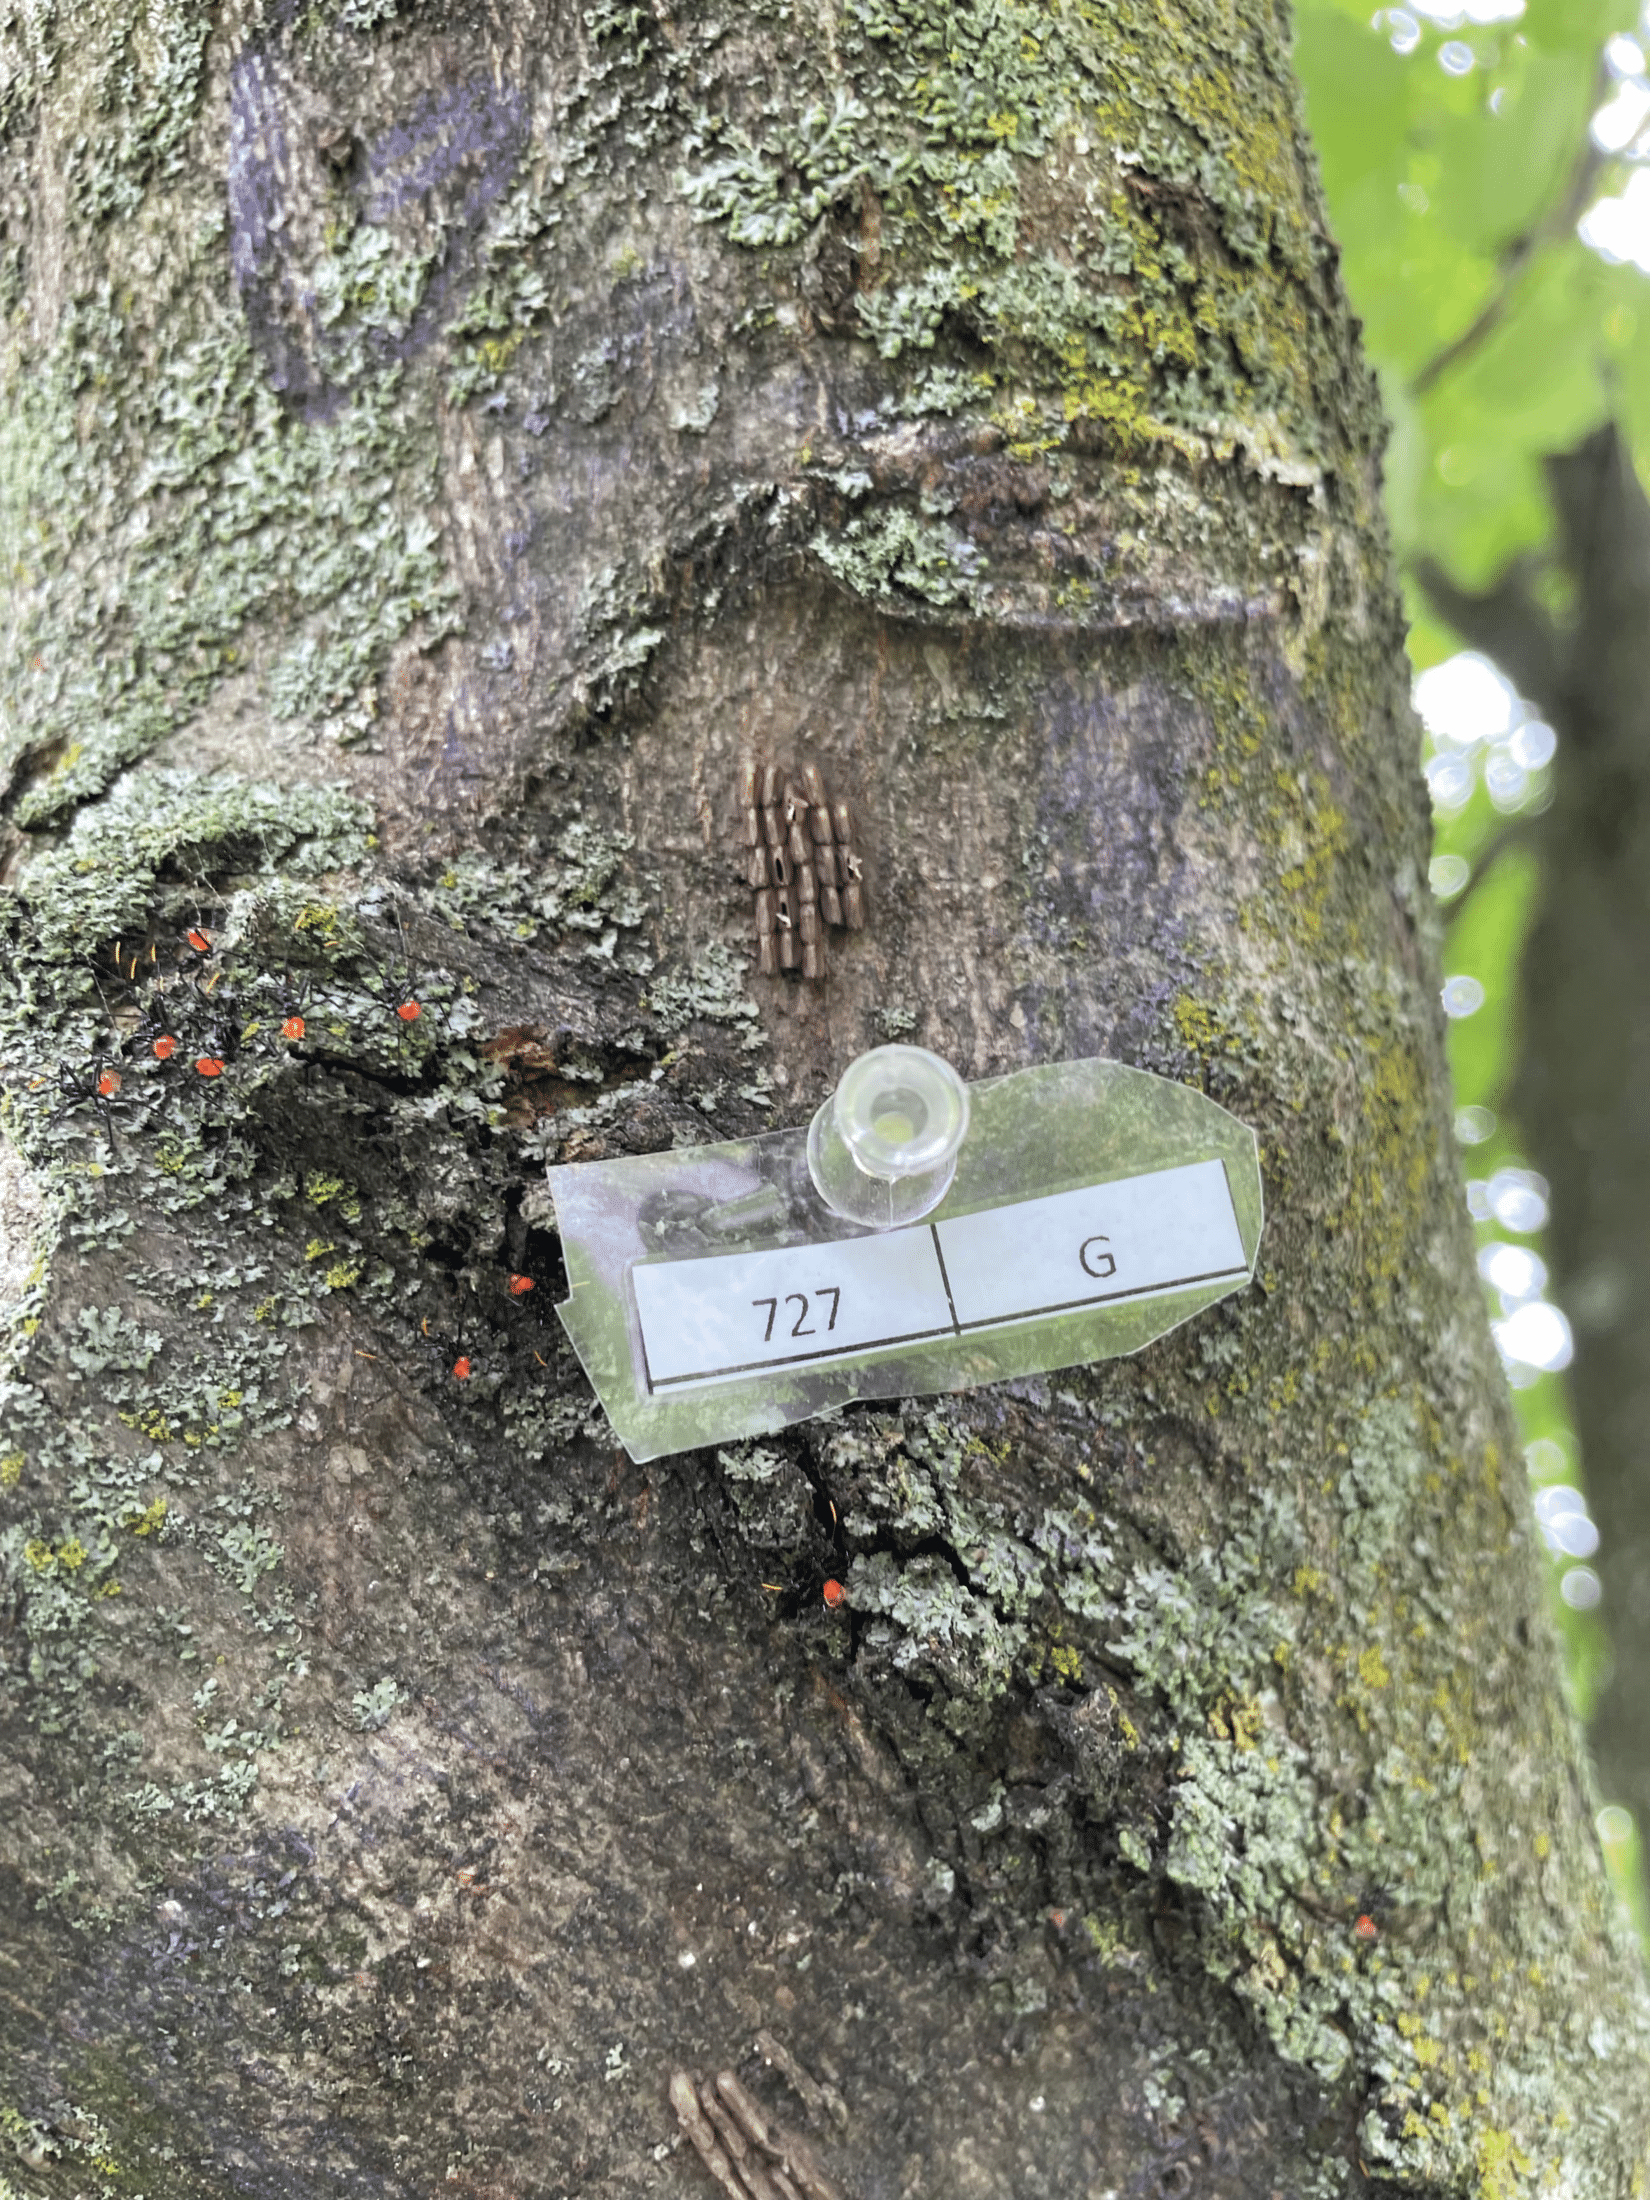egg masses: (692, 741, 960, 979)
